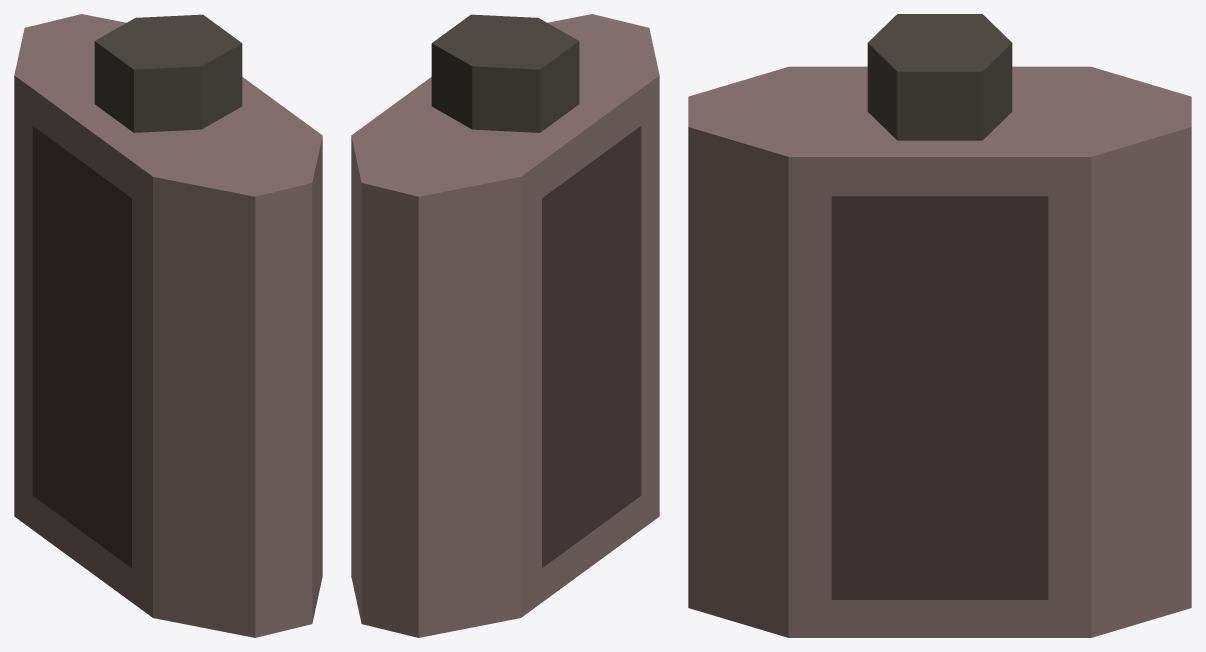
File: Perfume_01.FBX
3 views of the same model, side by side, from view 1: azimuth 30°, elevation 25°; view 2: azimuth 150°, elevation 25°; view 3: azimuth 270°, elevation 25° (orthographic). The views are drawn at different scales.
Parts seen in each view (by area): view 1: Perfume_01; view 2: Perfume_01; view 3: Perfume_01.
Part boxes in pixels (x1,y1,x2,y2): Perfume_01: [14, 14, 322, 637]; Perfume_01: [351, 14, 659, 637]; Perfume_01: [688, 14, 1191, 637].
Size of the model in its own units: 2.67 by 7.46 by 6.18.
